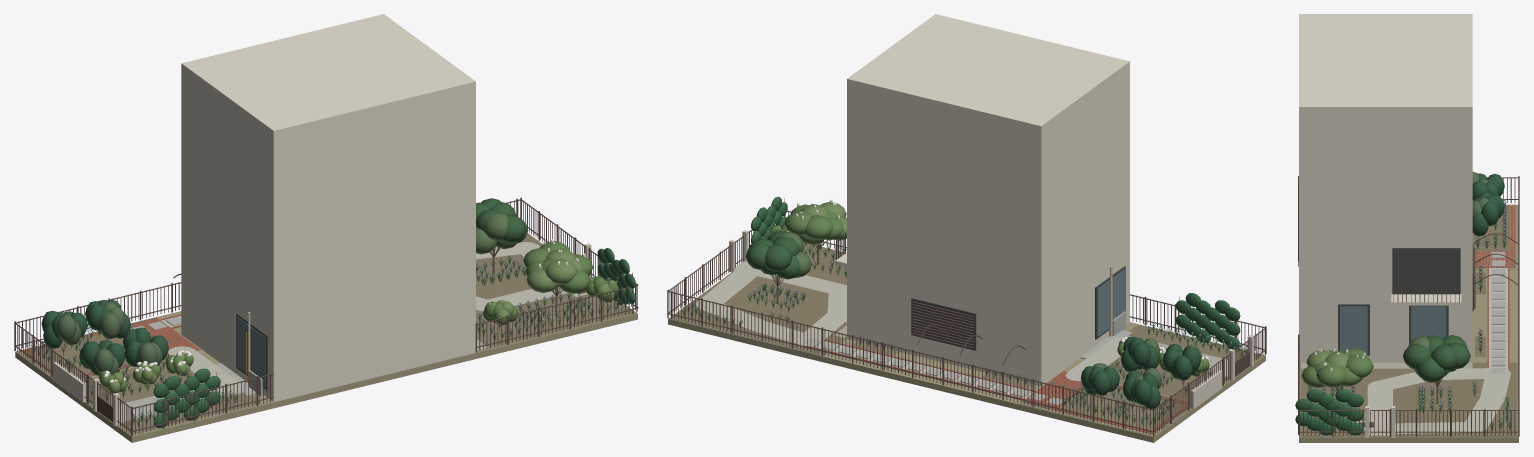
Rendered from design-C-year5.glb.
3 renders of one model, left to right at view 1: azimuth 30°, elevation 25°; view 2: azimuth 150°, elevation 25°; view 3: azimuth 270°, elevation 25°, orthographic. The views are drawn at different scales.
Visible parts, largest first — view 1: Unsurveyed_Building_Mass, Boundary_Fences_Approximate_metal, R0_Flat_Datum, S-west-border, Footprint_Proxy_Unsurveyed, Proposed_Planting_Beds_And_Mulch, Leaves_N14_Foliage_TJ, Leaves_N10_Foliage_CA, Leaves_N01_Foliage_CA, Leaves_S02_Foliage_Light_LI, Leaves_S02_Foliage_LI, S-loop_New_Warm_Grey_Paving (+18 smaller); view 2: Unsurveyed_Building_Mass, Boundary_Fences_Approximate_metal, R0_Flat_Datum, S-loop_New_Warm_Grey_Paving, Proposed_Planting_Beds_And_Mulch, Leaves_N14_Foliage_TJ, N-low-border, Leaves_N10_Foliage_CA, Footprint_Proxy_Unsurveyed, Leaves_N01_Foliage_CA, Leaves_S01_Foliage_OS, Wall_Services_Visible_Proxies_dark (+18 smaller); view 3: Unsurveyed_Building_Mass, S-loop_New_Warm_Grey_Paving, Visible_bare_Openings_dark, Proposed_Planting_Beds_And_Mulch, R0_Flat_Datum, Boundary_Fences_Approximate_metal, Leaves_S07_Foliage_TJ, Visible_bare_Openings_glass, Leaves_S01_Foliage_OS, Leaves_S02_Foliage_LI, Zone_3_Steps_And_Gravel_slab, Leaves_N01_Foliage_CA (+19 smaller).
Boxes of the visible parts, x1,y1,x2,y2 form: Unsurveyed_Building_Mass: (181,14,475,393); Boundary_Fences_Approximate_metal: (14,197,638,436); R0_Flat_Datum: (15,233,637,442); S-west-border: (477,295,631,345); Footprint_Proxy_Unsurveyed: (181,326,475,401); Proposed_Planting_Beds_And_Mulch: (77,233,635,434); Leaves_N14_Foliage_TJ: (153,368,220,427); Leaves_N10_Foliage_CA: (79,327,168,375); Leaves_N01_Foliage_CA: (41,300,130,348); Leaves_S02_Foliage_Light_LI: (526,248,583,292); Leaves_S02_Foliage_LI: (523,241,593,293); S-loop_New_Warm_Grey_Paving: (476,242,568,311); Unsurveyed_Building_Mass: (847,14,1129,378); Boundary_Fences_Approximate_metal: (667,210,1266,436); R0_Flat_Datum: (668,273,1265,442); S-loop_New_Warm_Grey_Paving: (696,263,846,346); Proposed_Planting_Beds_And_Mulch: (672,242,1261,429); Leaves_N14_Foliage_TJ: (1175,293,1240,349); N-low-border: (1059,388,1185,429); Leaves_N10_Foliage_CA: (1121,336,1200,380); Footprint_Proxy_Unsurveyed: (847,313,1129,386); Leaves_N01_Foliage_CA: (1081,366,1160,409); Leaves_S01_Foliage_OS: (745,230,800,279); Wall_Services_Visible_Proxies_dark: (911,298,976,350); Unsurveyed_Building_Mass: (1299,14,1472,354); S-loop_New_Warm_Grey_Paving: (1367,368,1510,434); Visible_bare_Openings_dark: (1338,248,1460,355); Proposed_Planting_Beds_And_Mulch: (1300,362,1517,435); R0_Flat_Datum: (1299,269,1518,442); Boundary_Fences_Approximate_metal: (1298,176,1519,436); Leaves_S07_Foliage_TJ: (1295,389,1363,435); Visible_bare_Openings_glass: (1340,306,1446,353); Leaves_S01_Foliage_OS: (1402,335,1470,382); Leaves_S02_Foliage_LI: (1301,348,1373,388); Zone_3_Steps_And_Gravel_slab: (1491,252,1505,373); Leaves_N01_Foliage_CA: (1472,173,1504,236).
Size of what is drawn, in the model's own units: 25.22 by 13.1 by 10.2.
